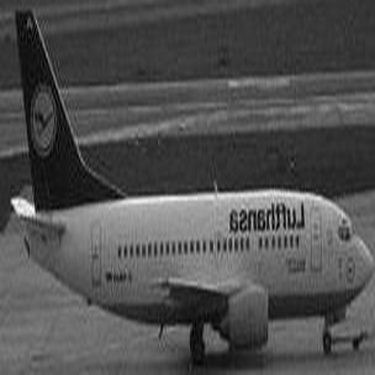airplane: (3, 4, 369, 372)
